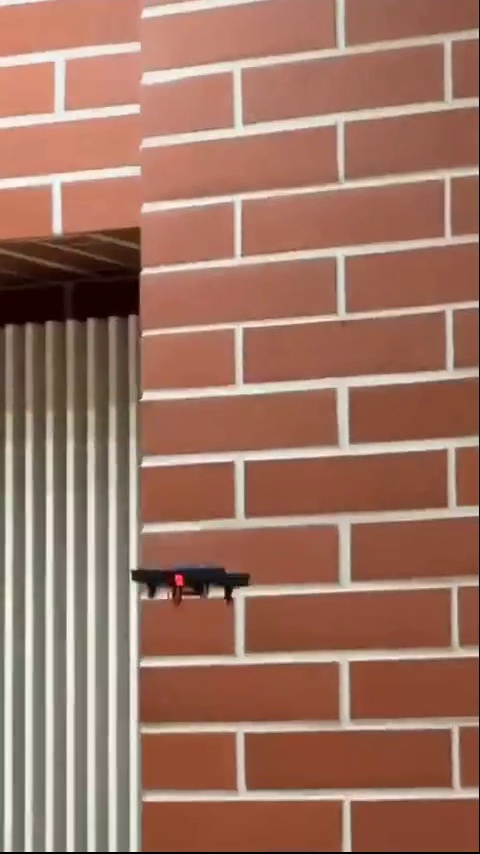drone: (124, 562, 268, 607)
